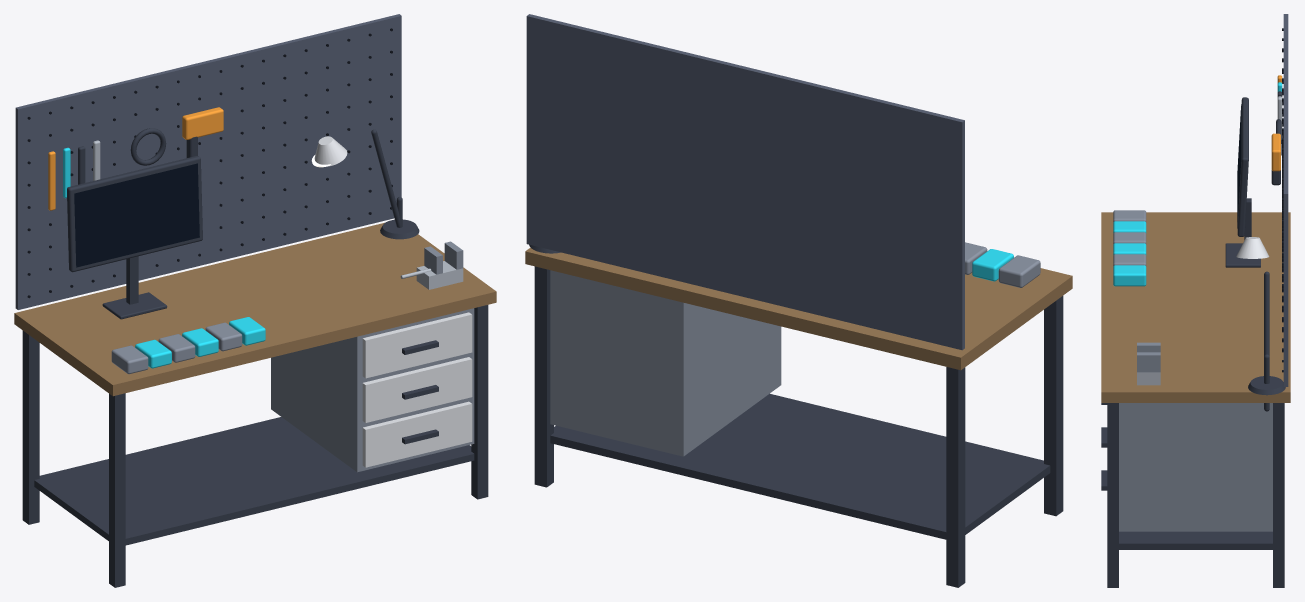
File: workbench.glb
3 renders of one model, left to right at view 1: azimuth 30°, elevation 25°; view 2: azimuth 150°, elevation 25°; view 3: azimuth 270°, elevation 25°, orthographic. The views are drawn at different scales.
Parts seen in each view (by area): view 1: pegboard, top, shelf, cabinet, workbench, screen, drawer1, drawer2, drawer0, bezel, monitor, drill (+9 smaller); view 2: pegboard, cabinet, shelf, top, workbench, parts0, parts1; view 3: top, cabinet, workbench, shelf, pegboard, bezel, monitor, parts5, lampArm, lamp, lampHead, viseFixed (+9 smaller).
Part boxes in pixels (x1,y1,x2,y2): pegboard: (15, 14, 401, 309); top: (14, 222, 496, 396); shelf: (34, 417, 474, 545); cabinet: (271, 308, 474, 472); workbench: (22, 305, 488, 587); screen: (74, 163, 199, 267); drawer1: (362, 357, 472, 422); drawer2: (362, 401, 472, 467); drawer0: (362, 312, 472, 378); bezel: (67, 155, 202, 272); monitor: (102, 256, 167, 319); drill: (182, 107, 223, 139); pegboard: (526, 14, 964, 350); cabinet: (550, 270, 781, 456); shelf: (550, 393, 1050, 539); top: (525, 247, 1072, 370); workbench: (534, 266, 1063, 587); parts0: (998, 255, 1040, 287); parts1: (972, 249, 1013, 281); top: (1101, 212, 1290, 402); cabinet: (1119, 403, 1272, 531); workbench: (1107, 403, 1284, 587); shelf: (1119, 531, 1272, 549); pegboard: (1271, 14, 1288, 386); bezel: (1237, 97, 1248, 236); monitor: (1225, 198, 1260, 267); parts5: (1113, 265, 1146, 286); lampArm: (1264, 271, 1269, 411); lamp: (1248, 376, 1285, 395); lampHead: (1236, 237, 1269, 258); viseFixed: (1137, 352, 1160, 372).
Size of the model in its own units: 1.83 by 1.85 by 0.8.
